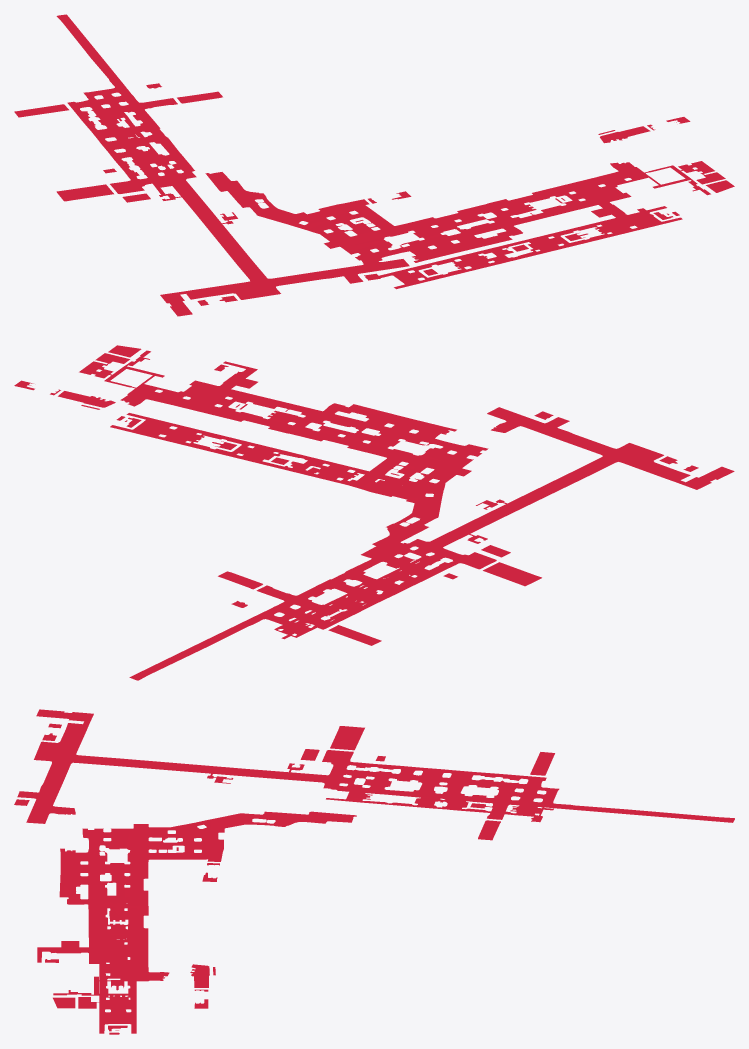
File: walkable-opt.glb
3 renders of one model, top to bottom at view 1: azimuth 30°, elevation 25°; view 2: azimuth 150°, elevation 25°; view 3: azimuth 270°, elevation 25°, orthographic. The views are drawn at different scales.
Visible parts, largest first — view 1: line1-walkable; view 2: line1-walkable; view 3: line1-walkable.
Boxes of the visible parts, x1,y1,x2,y2 form: line1-walkable: (14, 14, 734, 316); line1-walkable: (14, 345, 734, 680); line1-walkable: (14, 709, 734, 1034).
Size of the model in its own units: 234 by 20.79 by 241.
